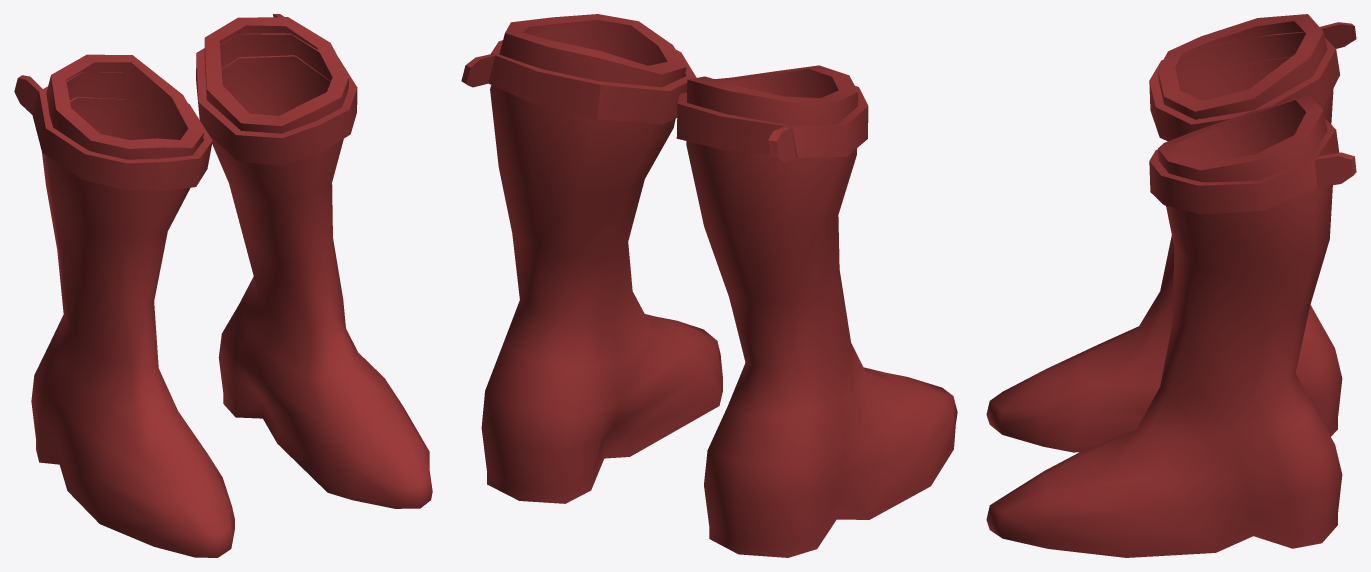
File: W_Ashe_Boots.FBX
3 views of the same model, side by side, from view 1: azimuth 30°, elevation 25°; view 2: azimuth 150°, elevation 25°; view 3: azimuth 270°, elevation 25° (orthographic). The views are drawn at different scales.
Parts seen in each view (by area): view 1: Object024; view 2: Object024; view 3: Object024.
Boxes of the visible parts, bbox=[...] form: Object024: bbox=[14, 14, 432, 557]; Object024: bbox=[461, 14, 957, 557]; Object024: bbox=[986, 14, 1356, 557].
Bounding box in the file's own units: 24.75 × 29.11 × 24.02.
